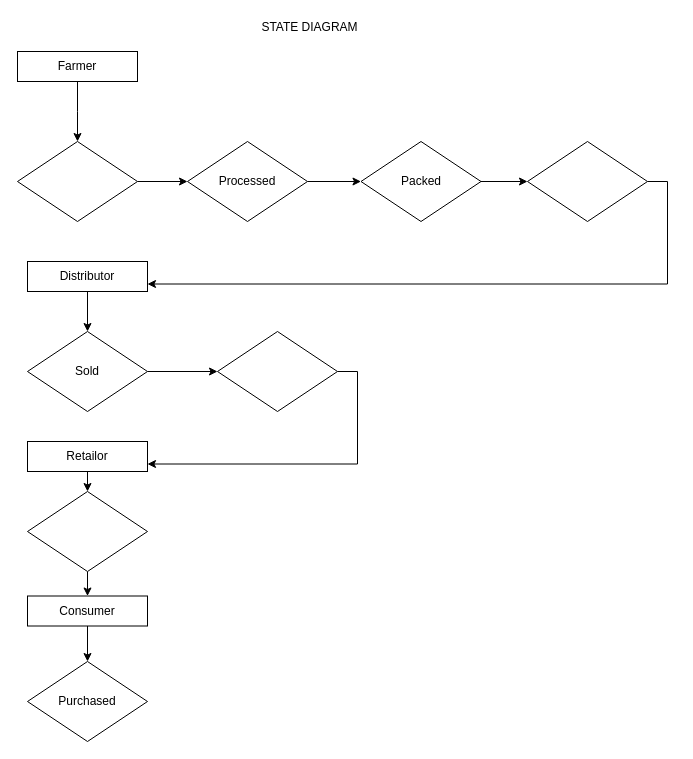
Image size: 693x759. Some labels were removed from this diagram. Each missing label, with the centre of its shape:
"ForSale" belongs at (x=587, y=181).
"Harvested" belongs at (x=77, y=181).
"Received" belongs at (x=87, y=531).
"Shipped" belongs at (x=277, y=371).
